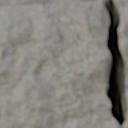brick: (0, 0, 119, 127), (115, 0, 127, 101), (122, 120, 127, 127)
crack: (103, 0, 127, 127)
